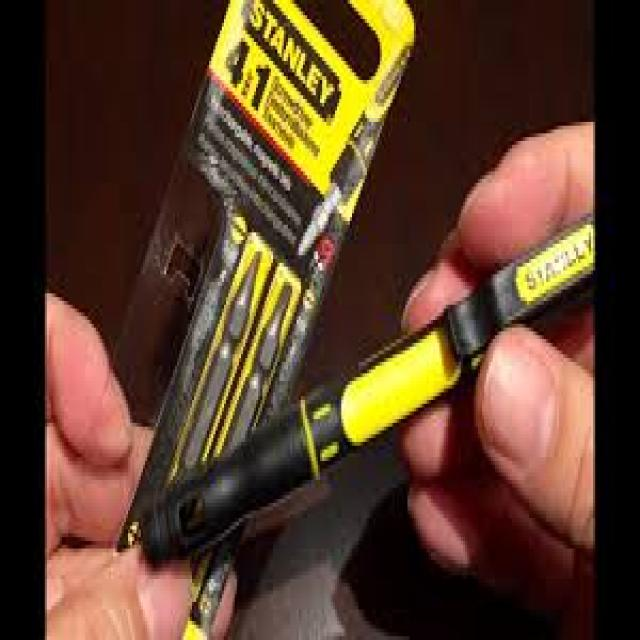screw_driver: (139, 193, 593, 591)
